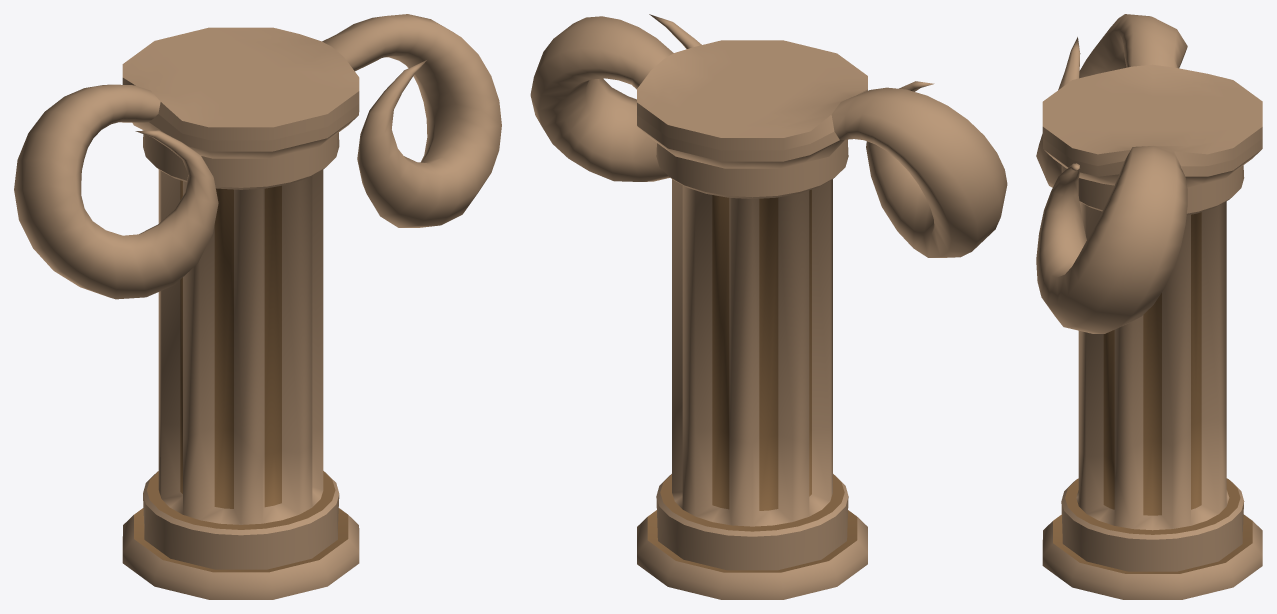
The model's file is Pilar Base.fbx.
3 views of the same model, side by side, from view 1: azimuth 30°, elevation 25°; view 2: azimuth 150°, elevation 25°; view 3: azimuth 270°, elevation 25° (orthographic). The views are drawn at different scales.
Parts seen in each view (by area): view 1: Pillar_Top; view 2: Pillar_Top; view 3: Pillar_Top.
Part boxes in pixels (<box>): Pillar_Top: <box>14,14,501,599</box>; Pillar_Top: <box>530,14,1007,599</box>; Pillar_Top: <box>1036,14,1262,599</box>.
Bounding box in the file's own units: 439 × 199 × 450.
